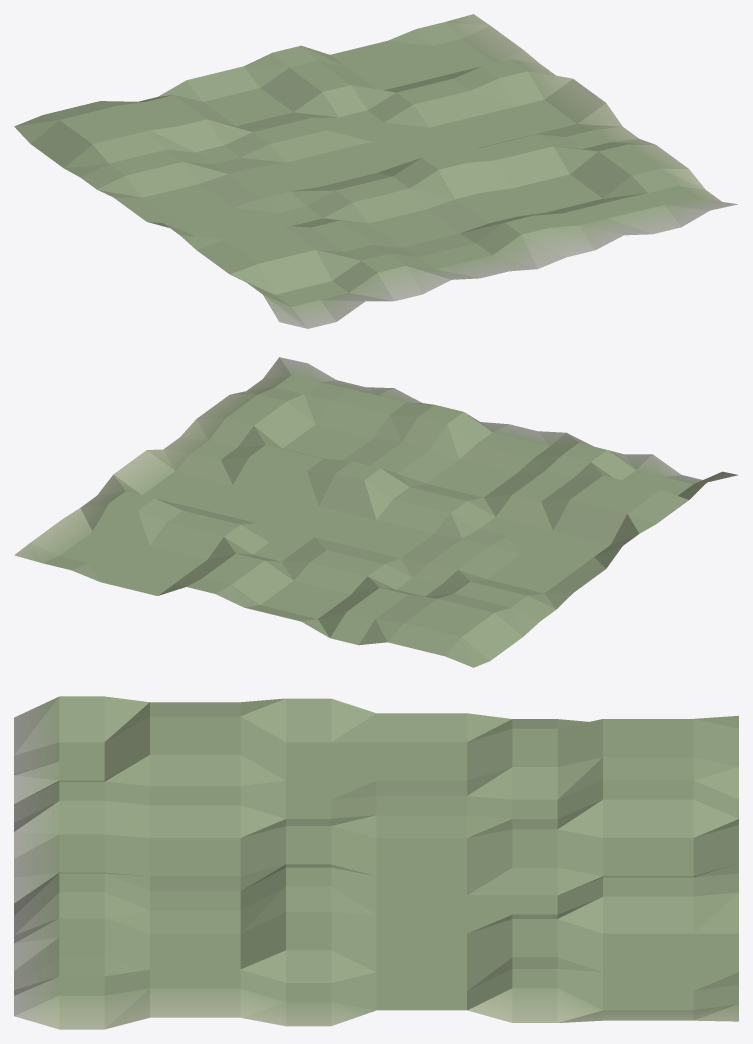
3 renders of one model, top to bottom at view 1: azimuth 30°, elevation 25°; view 2: azimuth 150°, elevation 25°; view 3: azimuth 270°, elevation 25°, orthographic. The views are drawn at different scales.
Bounding box in the file's own units: 32 × 2.01 × 32.
